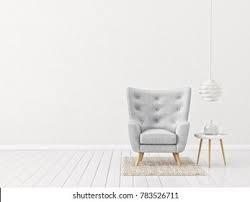chair: (104, 64, 197, 173)
